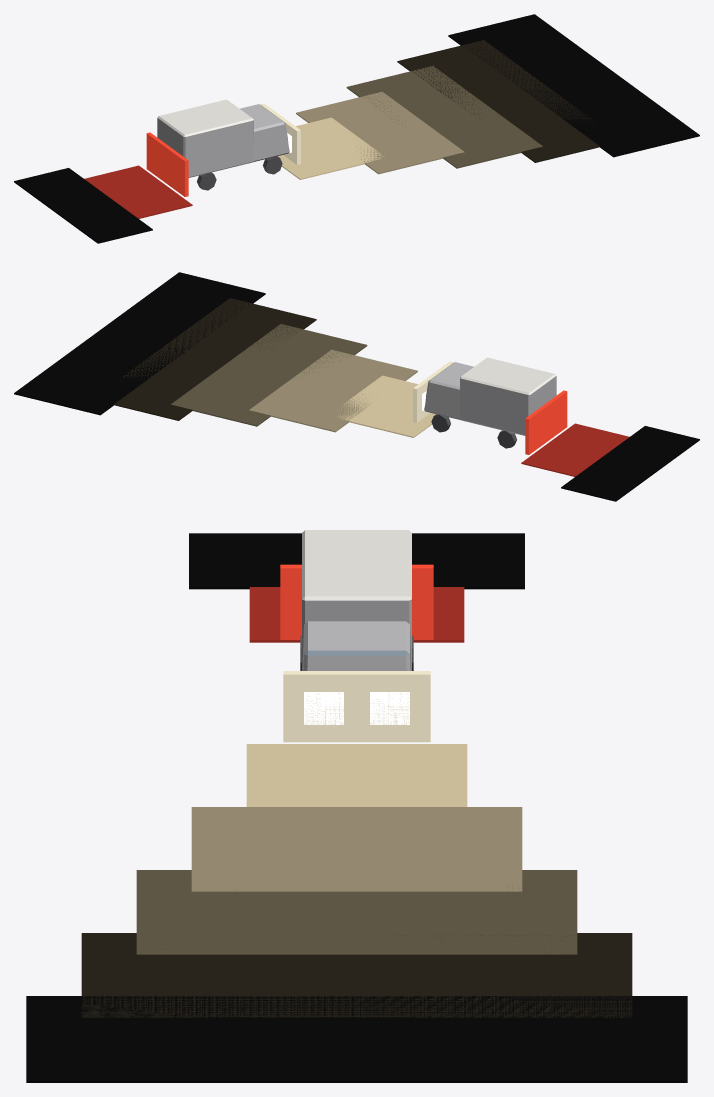
The model's file is veh_van_transit.glb.
3 renders of one model, top to bottom at view 1: azimuth 30°, elevation 25°; view 2: azimuth 150°, elevation 25°; view 3: azimuth 270°, elevation 25°, orthographic. The views are drawn at different scales.
Visible parts, largest first — view 1: veh_van_transit; view 2: veh_van_transit; view 3: veh_van_transit.
Boxes of the visible parts, x1,y1,x2,y2 form: veh_van_transit: (14, 14, 699, 243); veh_van_transit: (14, 272, 699, 501); veh_van_transit: (26, 530, 687, 1082).
Size of the model in its own units: 2 by 0.205 by 1.02.
